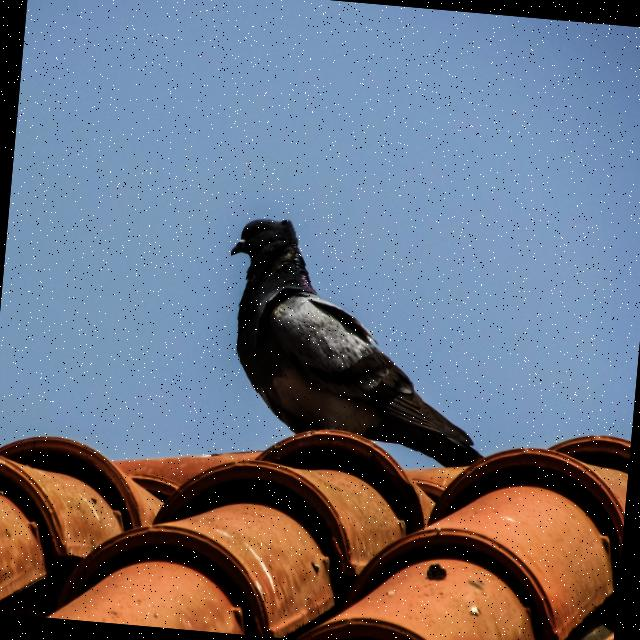bird: (210, 212, 501, 473)
